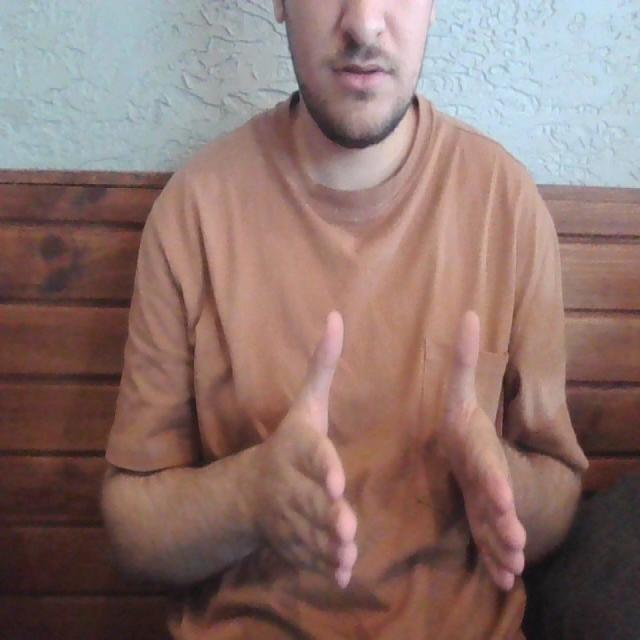Nasil: (252, 273, 548, 613)
